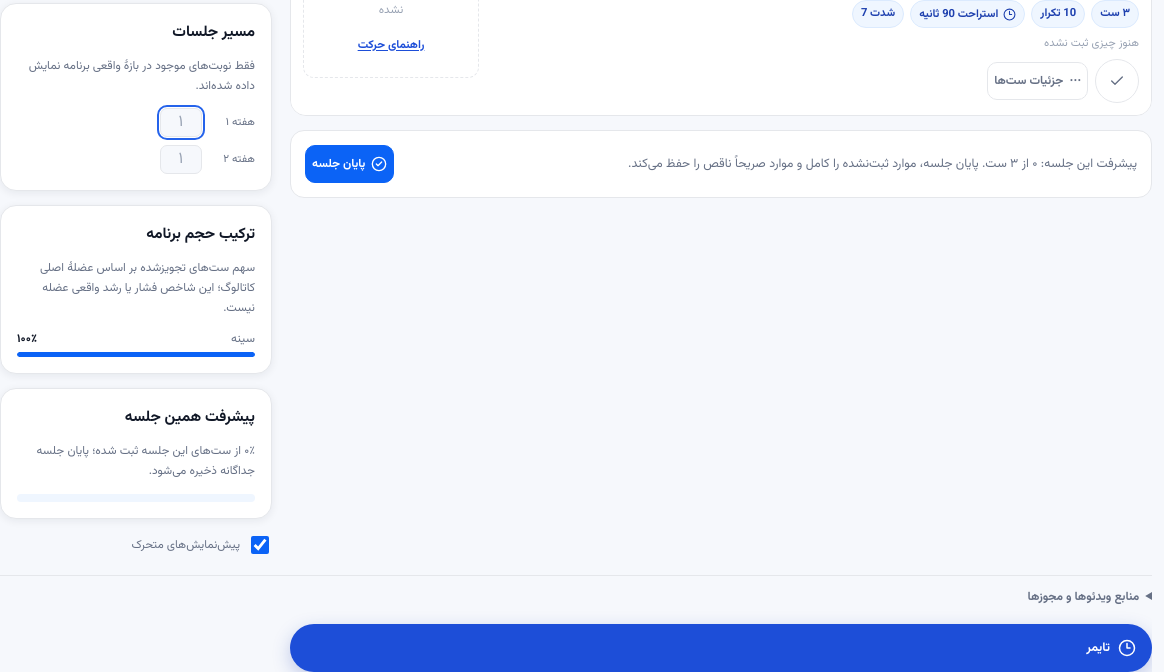
it: InteractiveWorkout › opens the timer panel from its floating mobile control
This screenshot has width=1164, height=672.
(page scrolled)
Click the button with aria-label "بازکردن تایمر تمرین" at (1127,648), box top-left (290, 624), bottom-right (1152, 671)
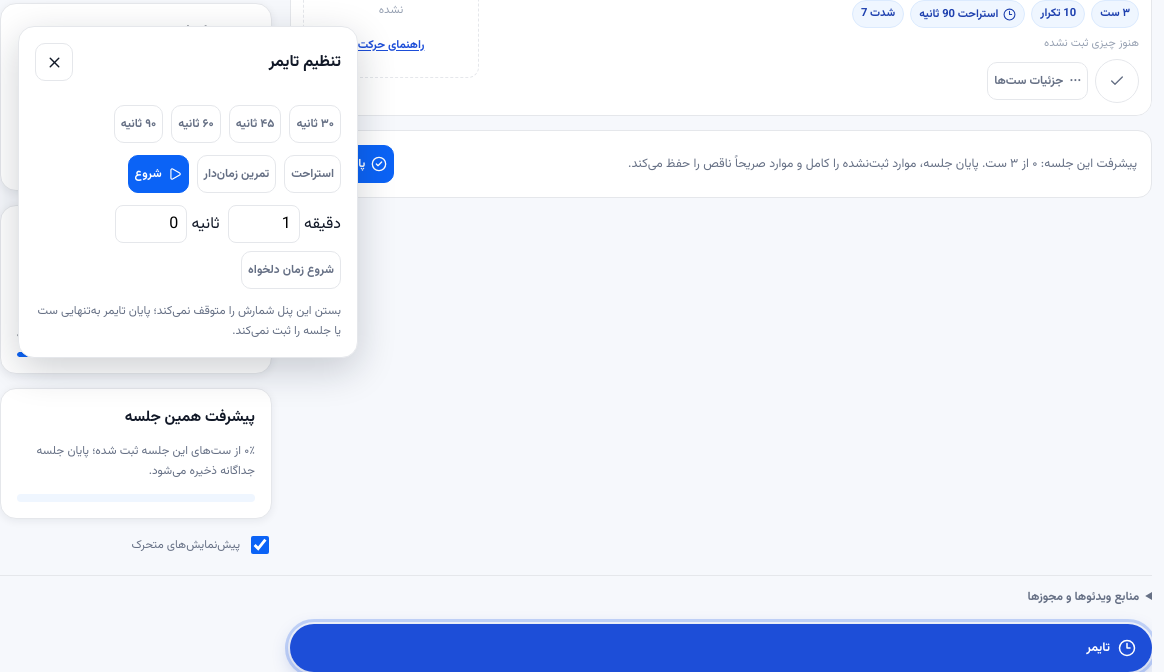
Now the element named "کنترل تایمر" is shown, box top-left (18, 26), bottom-right (358, 358)
